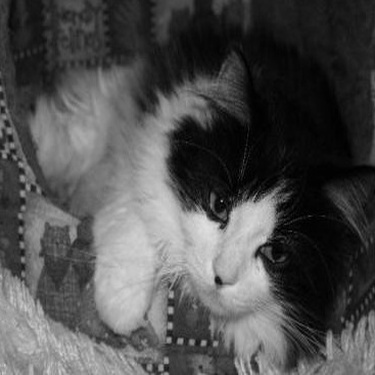cat: (28, 43, 349, 370)
